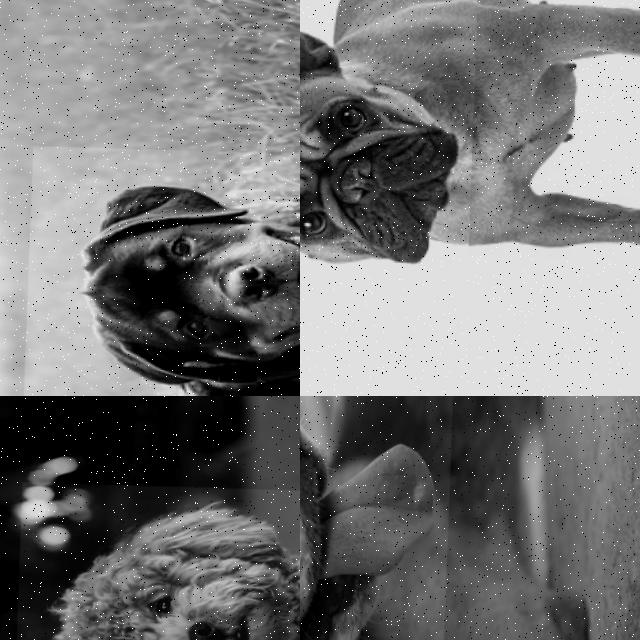beagle: (300, 396, 457, 640)
bulldog: (300, 0, 479, 317)
poodle: (7, 476, 300, 640)
rottweiler: (18, 139, 300, 396)
